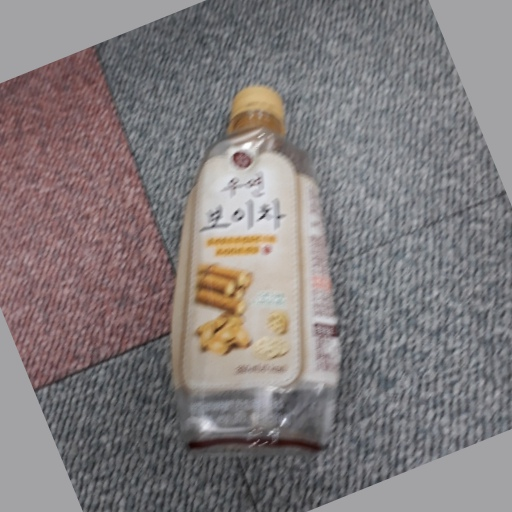Plastic_0: (168, 81, 341, 448)
